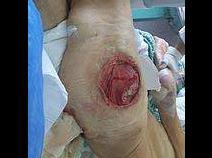Stage4: (87, 39, 143, 120)
